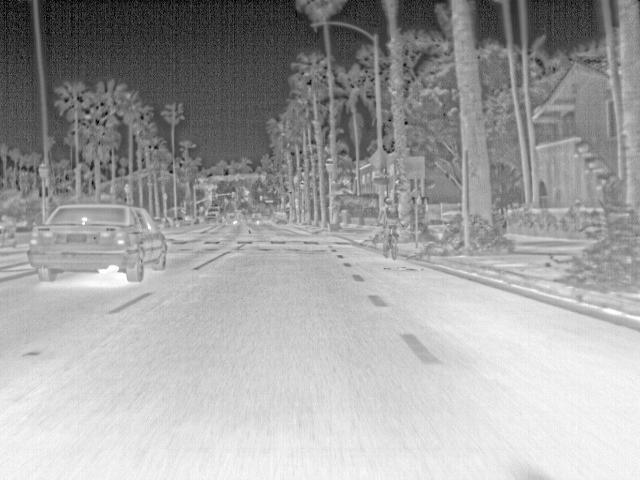car: (26, 204, 170, 283), (273, 211, 289, 225)
person: (374, 196, 401, 246)
